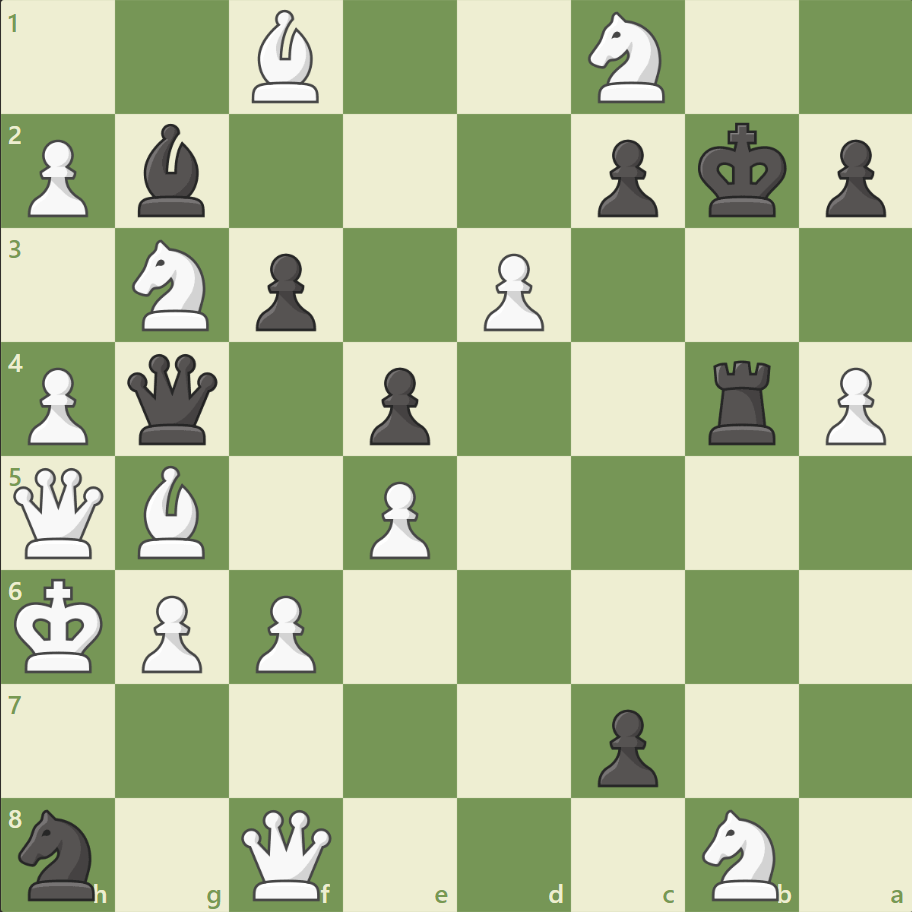B: (131, 460, 215, 563), (244, 6, 328, 109)
K: (11, 571, 111, 679)
N: (124, 234, 222, 337), (579, 7, 676, 110), (692, 802, 789, 904)
P: (247, 586, 322, 677), (133, 586, 208, 677), (20, 359, 95, 450), (474, 246, 549, 337), (20, 132, 95, 223), (361, 473, 435, 564), (815, 359, 889, 450)
Q: (237, 804, 336, 903), (10, 463, 109, 562)
b: (131, 120, 215, 222)
k: (692, 117, 792, 225)
n: (11, 802, 108, 904)
p: (247, 246, 322, 337), (588, 700, 662, 791), (361, 359, 435, 450), (815, 132, 889, 223), (588, 132, 662, 223)
q: (124, 349, 223, 449)
r: (700, 352, 783, 449)
